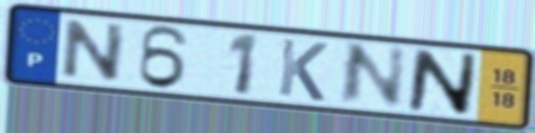1: (220, 31, 262, 97)
6: (136, 23, 191, 91)
K: (275, 36, 331, 104)
N: (404, 46, 481, 119), (334, 41, 410, 109), (57, 17, 131, 84)
